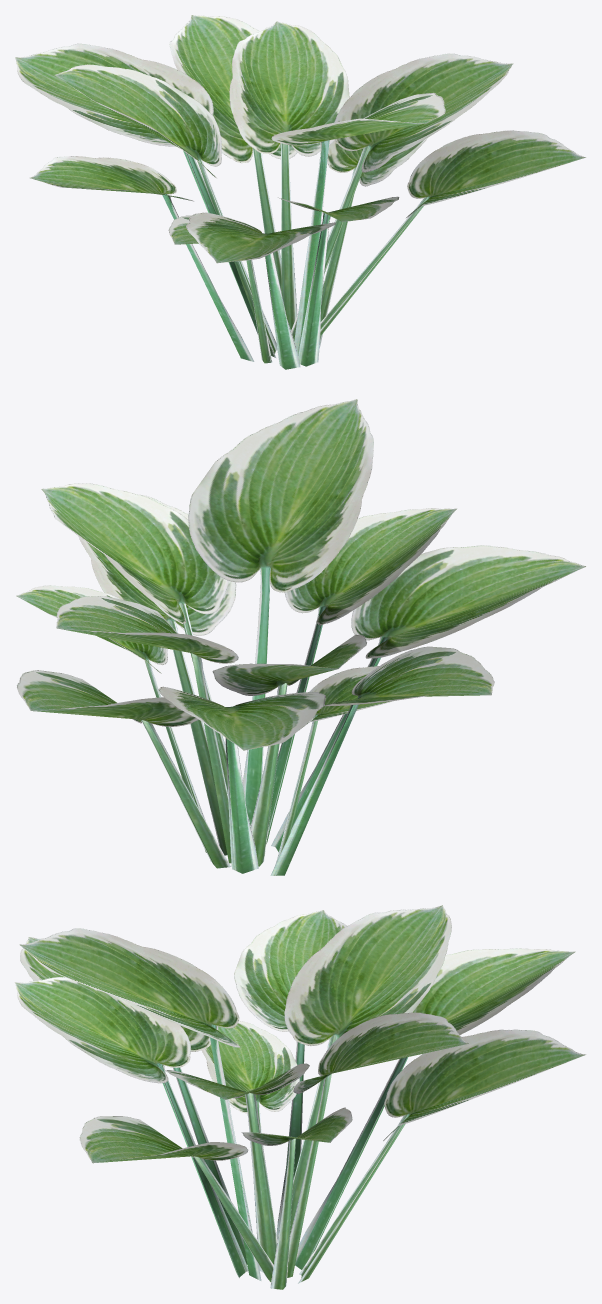
The model's file is plant_small_wg_05L.fbx.
3 renders of one model, top to bottom at view 1: azimuth 30°, elevation 25°; view 2: azimuth 150°, elevation 25°; view 3: azimuth 270°, elevation 25°, orthographic. The views are drawn at different scales.
Visible parts, largest first — view 1: plant_small_wg_05L; view 2: plant_small_wg_05L; view 3: plant_small_wg_05L.
Boxes of the visible parts, left/top/right/bottom form: plant_small_wg_05L: left=15, top=15, right=585, bottom=369; plant_small_wg_05L: left=16, top=399, right=585, bottom=875; plant_small_wg_05L: left=15, top=905, right=585, bottom=1289.
Bounding box in the file's own units: 63.27 × 41.59 × 63.66.
